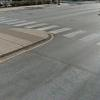Crosswalk: (0, 12, 87, 45)
